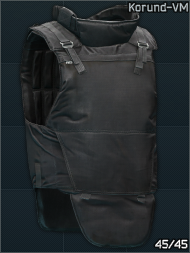BNTI Korund-VM armor: (0, 0, 190, 253)
